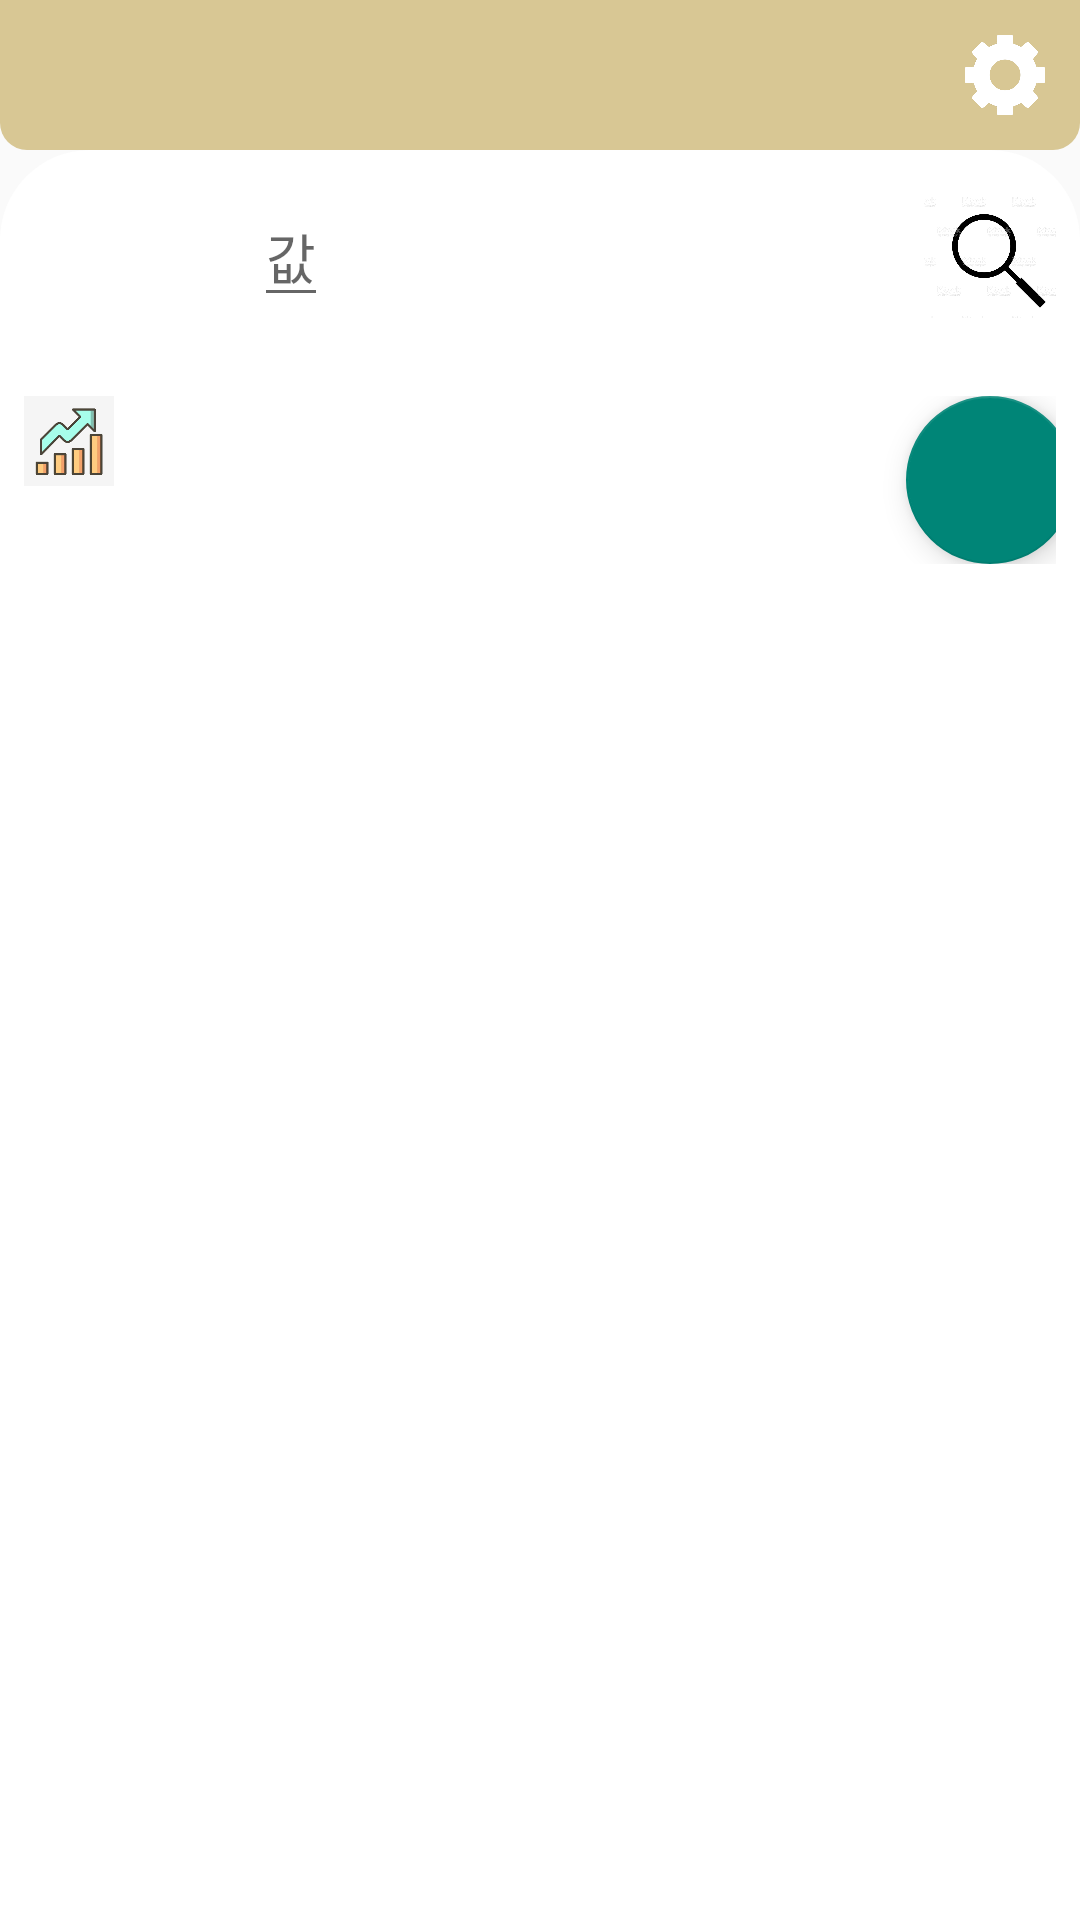

Screen size 1080px x 1920px. Icon name, then its center in pixels as (x=x, y=y):
wheel: (x=1005, y=75)
